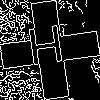H: (25, 25, 67, 75)
